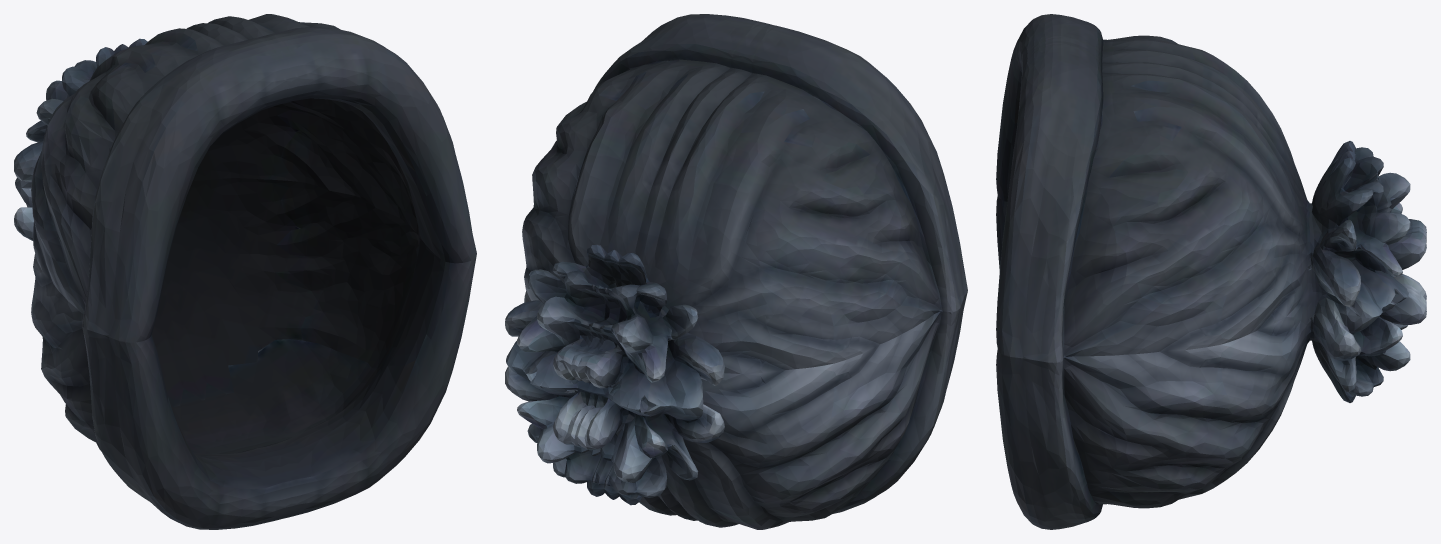
File: hooded_cloak.glb
3 views of the same model, side by side, from view 1: azimuth 30°, elevation 25°; view 2: azimuth 150°, elevation 25°; view 3: azimuth 270°, elevation 25° (orthographic). The views are drawn at different scales.
Visible parts, largest first — view 1: geometry_0.007; view 2: geometry_0.007; view 3: geometry_0.007.
Part boxes in pixels (x1,y1,x2,y2): geometry_0.007: [14, 14, 476, 529]; geometry_0.007: [505, 14, 967, 529]; geometry_0.007: [996, 14, 1426, 529].
Size of the model in its own units: 0.7577 by 0.9 by 0.7593.
Materials: 1 (1 with a texture image).
